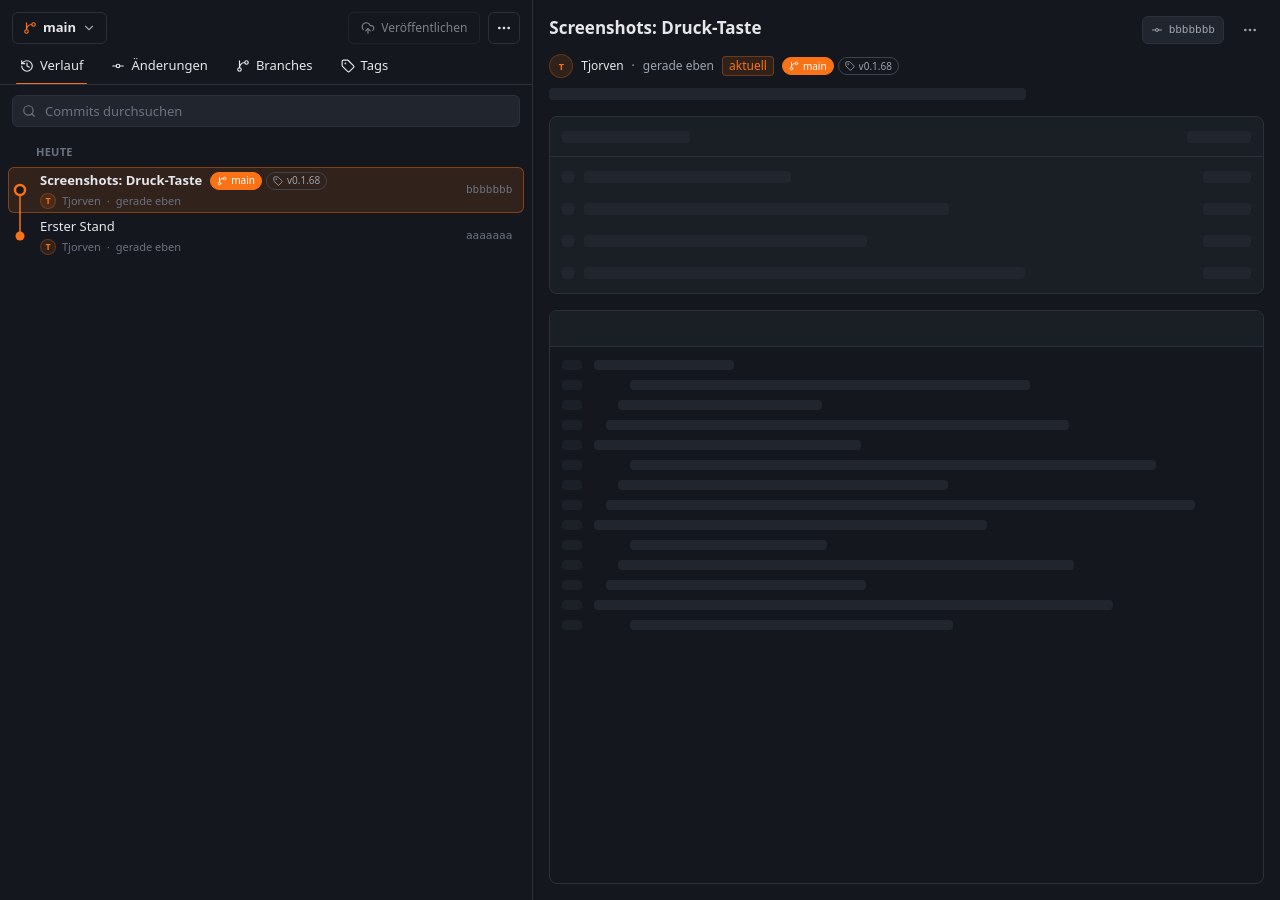
GitCenter › switches the right side to a commit clicked in the history
The width and height of the screenshot is (1280, 900).
Click the text "Erster Stand" at (77, 227), box left=40, top=217, right=115, bottom=236
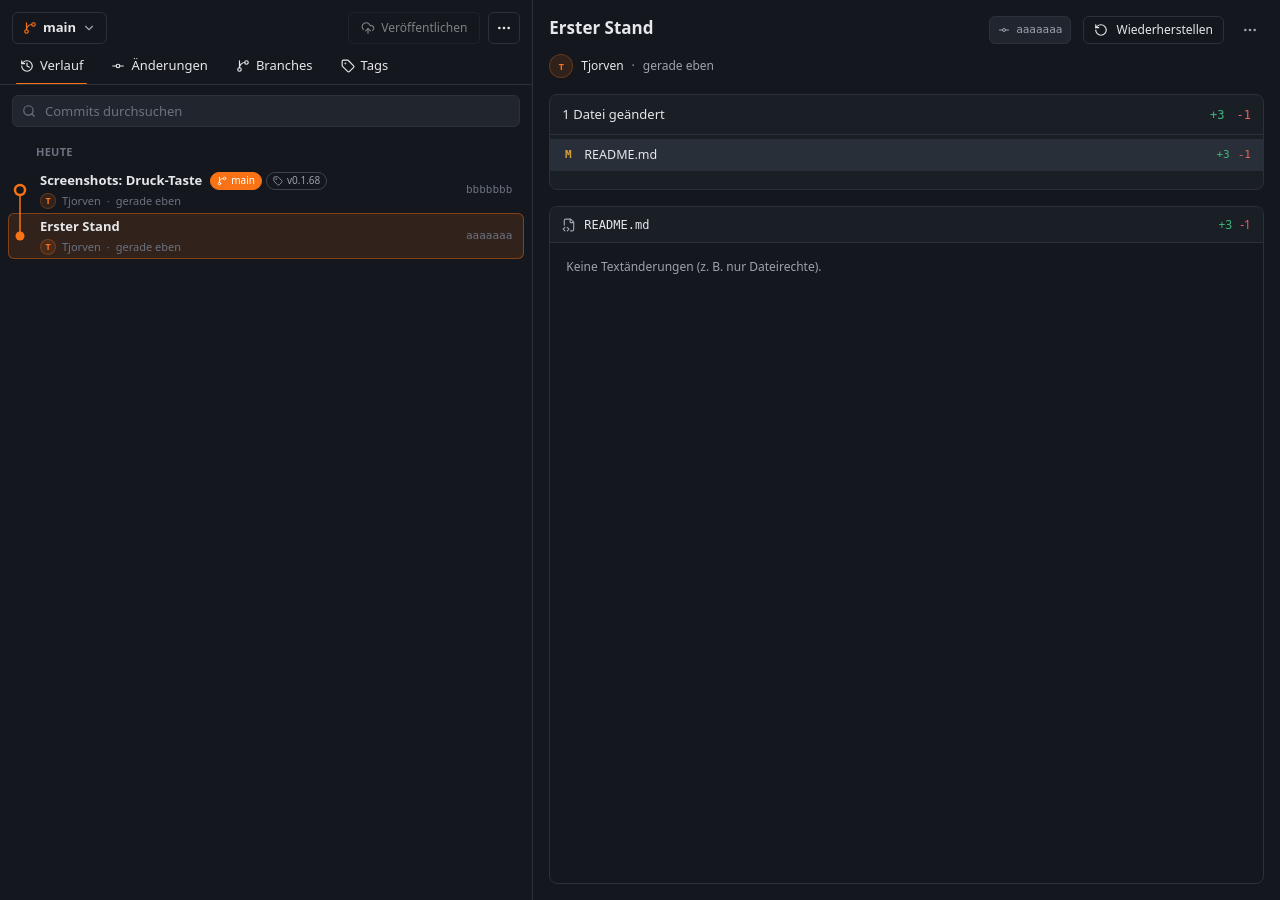
Now the heading "Erster Stand" is shown, box left=549, top=16, right=654, bottom=39
Now the text "README.md" below "1 Datei geändert" is shown, box left=584, top=146, right=657, bottom=163
